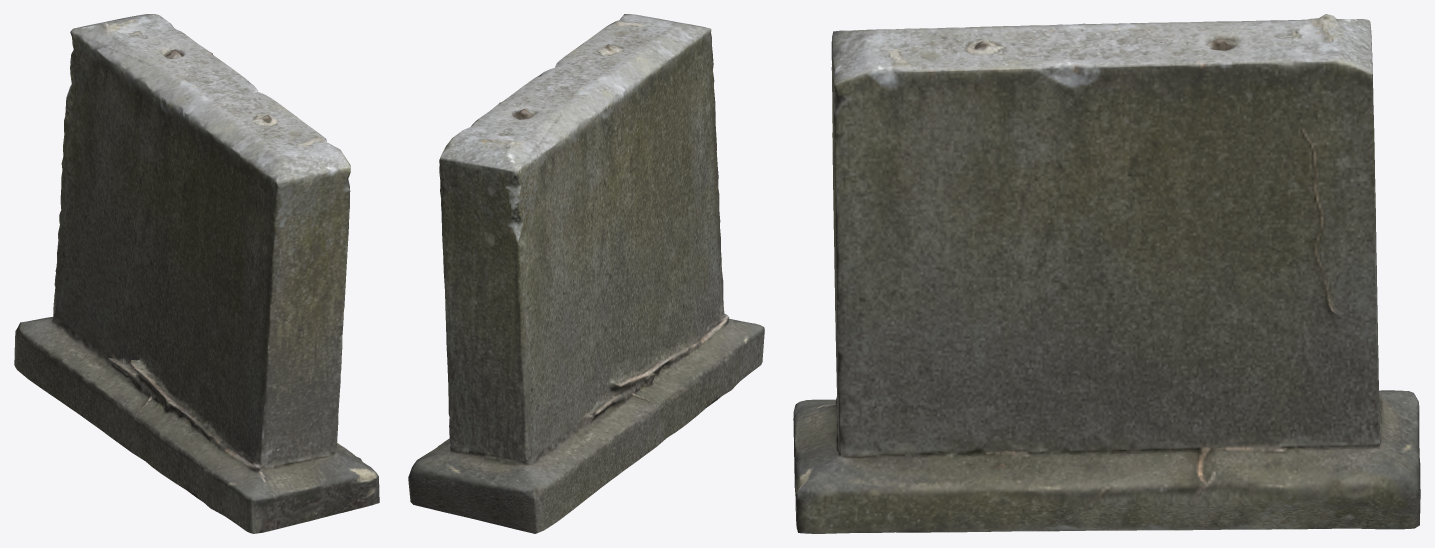
The model's file is sm_Grave_05_03.fbx.
3 views of the same model, side by side, from view 1: azimuth 30°, elevation 25°; view 2: azimuth 150°, elevation 25°; view 3: azimuth 270°, elevation 25° (orthographic). The views are drawn at different scales.
Parts seen in each view (by area): view 1: sm_Grave_05_03_LOD0; view 2: sm_Grave_05_03_LOD0; view 3: sm_Grave_05_03_LOD0.
Part boxes in pixels (x1=…): sm_Grave_05_03_LOD0: x1=14, y1=14, x2=379, y2=533; sm_Grave_05_03_LOD0: x1=408, y1=14, x2=764, y2=533; sm_Grave_05_03_LOD0: x1=793, y1=14, x2=1420, y2=533.
Bounding box in the file's own units: 21.31 × 62.79 × 51.86.
